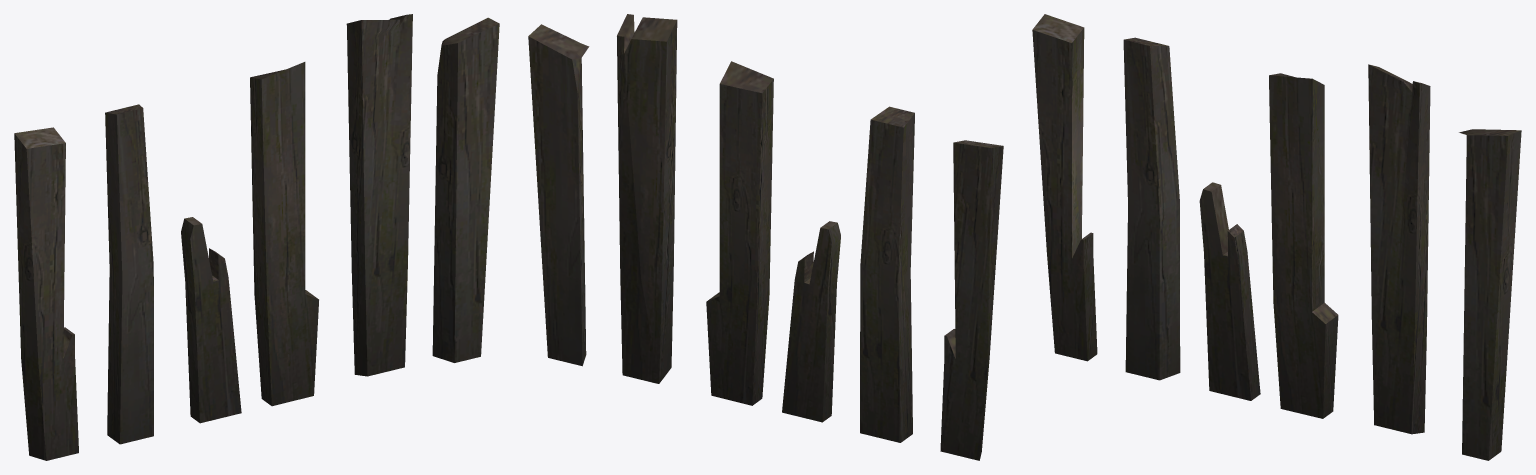
The model's file is wood_fence001e.fbx.
The picture shows the model from 3 angles, left to right: view 1: azimuth 30°, elevation 25°; view 2: azimuth 150°, elevation 25°; view 3: azimuth 330°, elevation 25°; orthographic projection. The views are drawn at different scales.
Parts seen in each view (by area): view 1: fence_wood001e; view 2: fence_wood001e; view 3: fence_wood001e.
Boxes of the visible parts, x1,y1,x2,y2 form: fence_wood001e: (14,14,499,460); fence_wood001e: (528,14,1003,460); fence_wood001e: (1032,14,1521,460).
Size of the model in its own units: 175 by 129 by 11.4.
